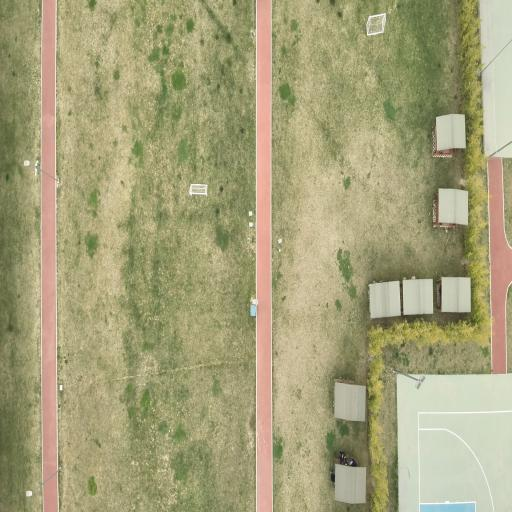person: (340, 451, 346, 463), (349, 458, 357, 466), (330, 470, 334, 482)
